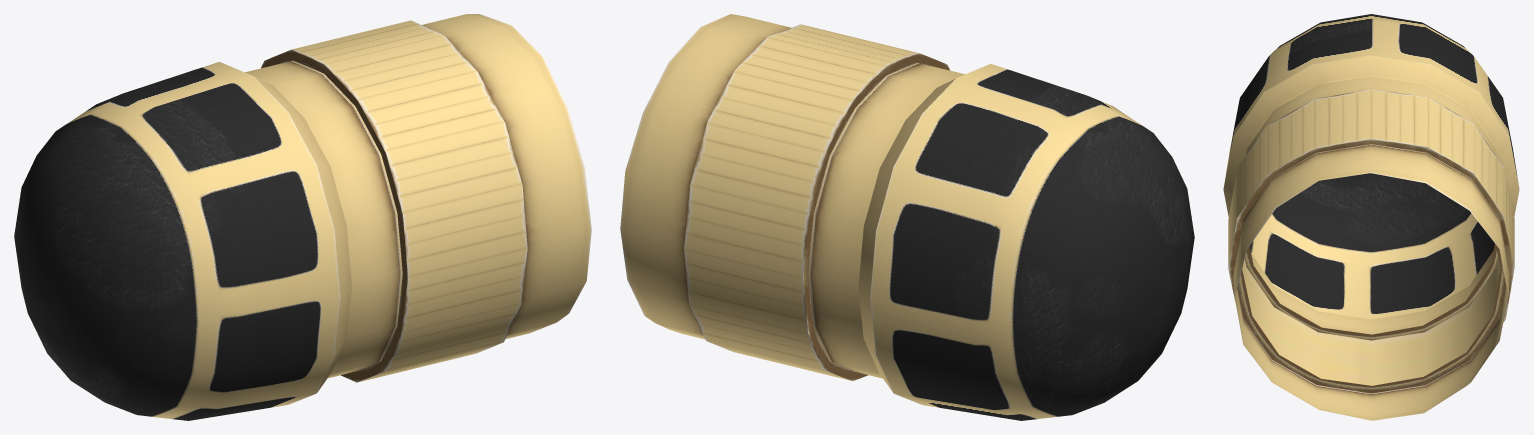
File: pommel_12_c_b.glb
3 renders of one model, left to right at view 1: azimuth 30°, elevation 25°; view 2: azimuth 150°, elevation 25°; view 3: azimuth 270°, elevation 25°, orthographic. The views are drawn at different scales.
Visible parts, largest first — view 1: pommel_12_c_b_lod0; view 2: pommel_12_c_b_lod0; view 3: pommel_12_c_b_lod0.
Boxes of the visible parts, x1,y1,x2,y2 form: pommel_12_c_b_lod0: [14, 14, 591, 420]; pommel_12_c_b_lod0: [620, 14, 1194, 420]; pommel_12_c_b_lod0: [1223, 14, 1519, 420].
Size of what is drawn, in the model's own units: 0.0482 by 0.031 by 0.031.
Materials: 1 (1 with a texture image).
